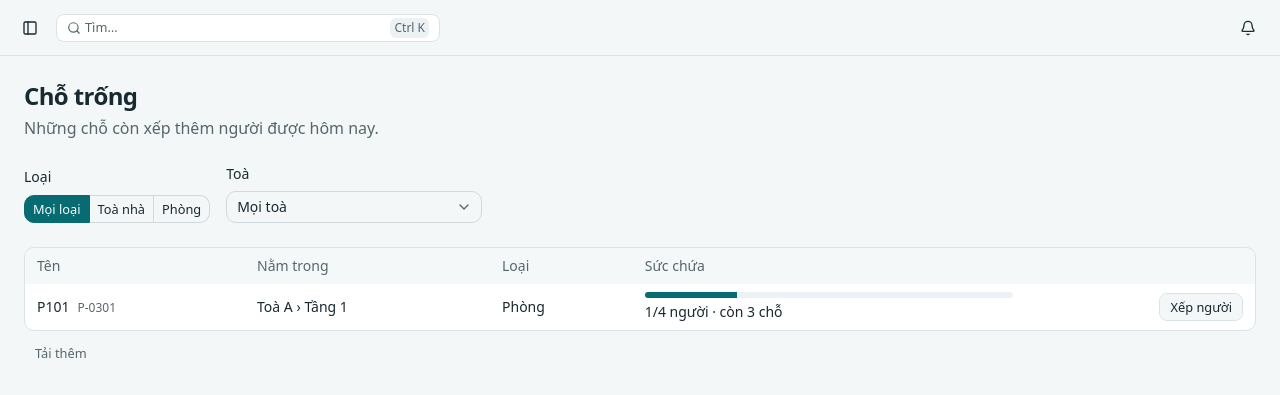
Scenario: loadsMore
Expected: the link "P101" is shown, [37, 297, 70, 316]
Step 1. Click the button "Tải thêm" → (61, 353), box [24, 339, 1256, 367]
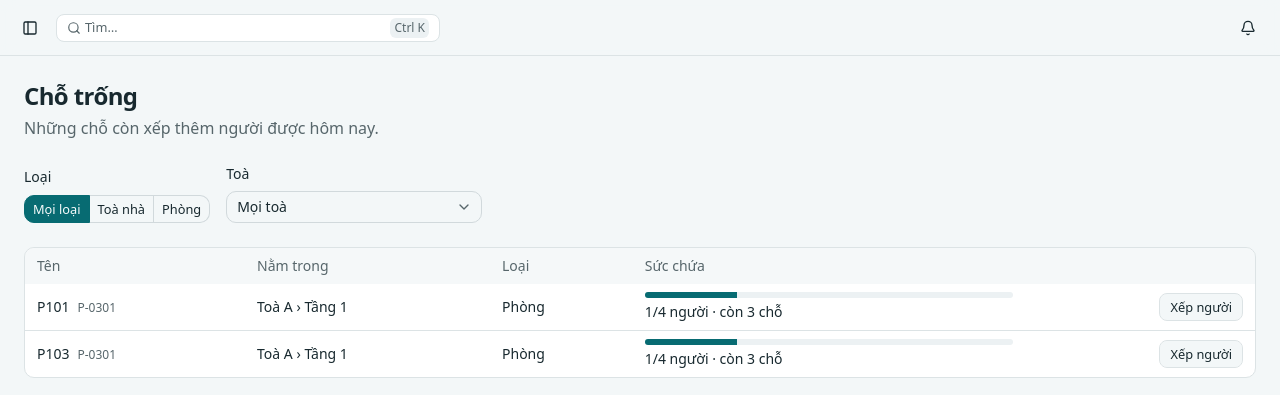
Result: the link "P103" is shown at [37, 344, 70, 363]
